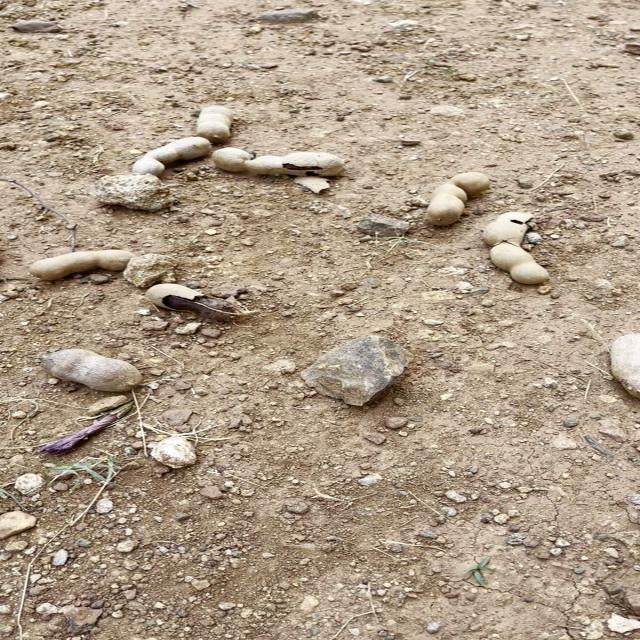tamarind: (28, 347, 146, 391), (23, 246, 140, 286), (420, 166, 490, 228), (209, 145, 359, 173), (132, 138, 206, 174), (491, 241, 552, 281), (194, 106, 237, 140)
